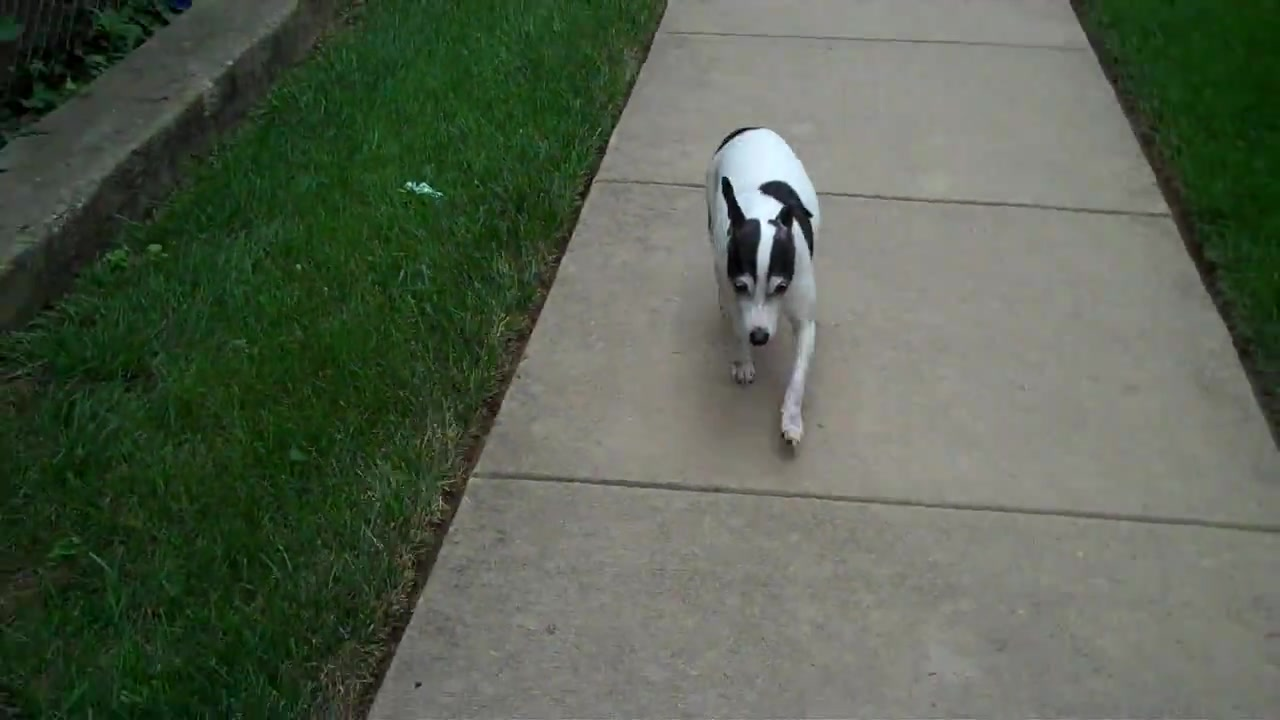dog: (704, 126, 823, 450)
